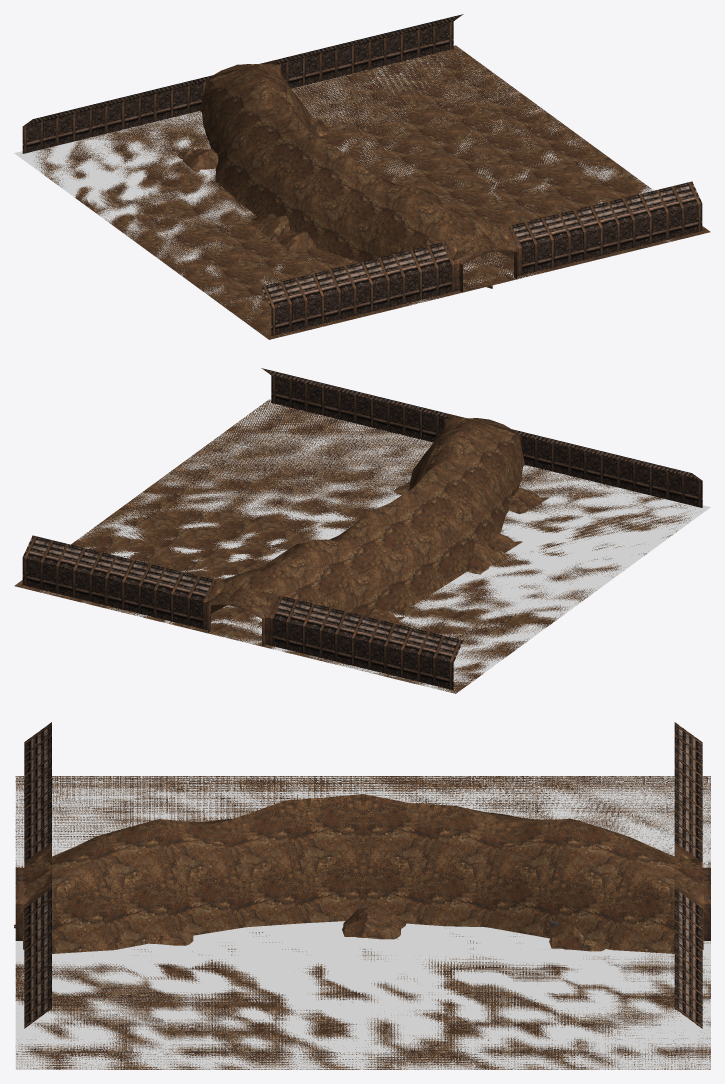
Rendered from lvl8_mesh.gltf.
3 renders of one model, top to bottom at view 1: azimuth 30°, elevation 25°; view 2: azimuth 150°, elevation 25°; view 3: azimuth 270°, elevation 25°, orthographic. The views are drawn at different scales.
Parts seen in each view (by area): view 1: ground.009, ceiling-col.005, walls.002-col.005, ground_coll-colonly.005, walls-col.006, ground_prop.006; view 2: ground.009, ground_coll-colonly.005, ceiling-col.005, walls-col.006, walls.002-col.005, ground_prop.006; view 3: ground_coll-colonly.005, ceiling-col.005, ground.009, walls-col.006, walls.002-col.005, ground_prop.006.
Part boxes in pixels (x1=…): ground.009: x1=32, y1=45, x2=710, y2=339; ceiling-col.005: x1=200, y1=64, x2=526, y2=292; walls.002-col.005: x1=261, y1=181, x2=702, y2=336; ground_coll-colonly.005: x1=14, y1=48, x2=673, y2=334; walls-col.006: x1=22, y1=14, x2=463, y2=153; ground_prop.006: x1=177, y1=118, x2=331, y2=253; ground.009: x1=14, y1=399, x2=695, y2=693; ground_coll-colonly.005: x1=40, y1=399, x2=710, y2=693; ceiling-col.005: x1=198, y1=418, x2=524, y2=646; walls-col.006: x1=22, y1=535, x2=463, y2=690; walls.002-col.005: x1=261, y1=368, x2=702, y2=507; ground_prop.006: x1=362, y1=481, x2=549, y2=623; ground_coll-colonly.005: x1=15, y1=776, x2=710, y2=1069; ceiling-col.005: x1=23, y1=794, x2=703, y2=953; ground.009: x1=15, y1=776, x2=710, y2=1069; walls-col.006: x1=674, y1=722, x2=710, y2=1028; walls.002-col.005: x1=15, y1=722, x2=51, y2=1028; ground_prop.006: x1=150, y1=908, x2=605, y2=951.
Size of the model in its own units: 41 by 6.64 by 41.1.
Materials: 5 (5 with a texture image).
